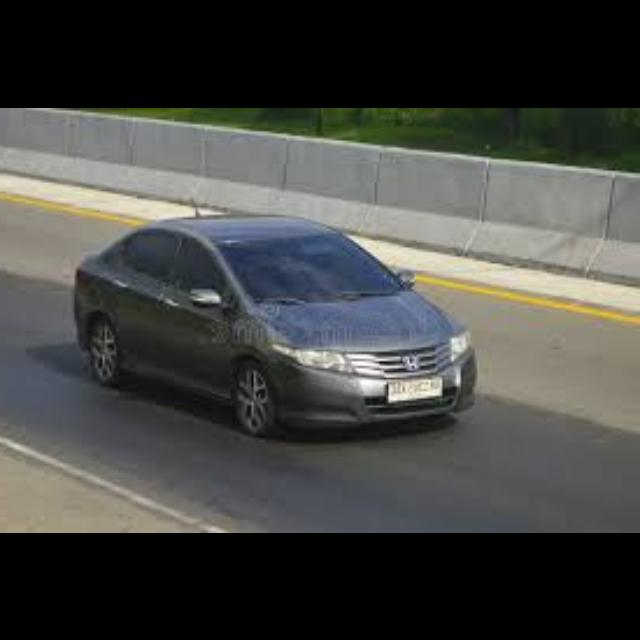vehicles: (74, 209, 482, 435)
